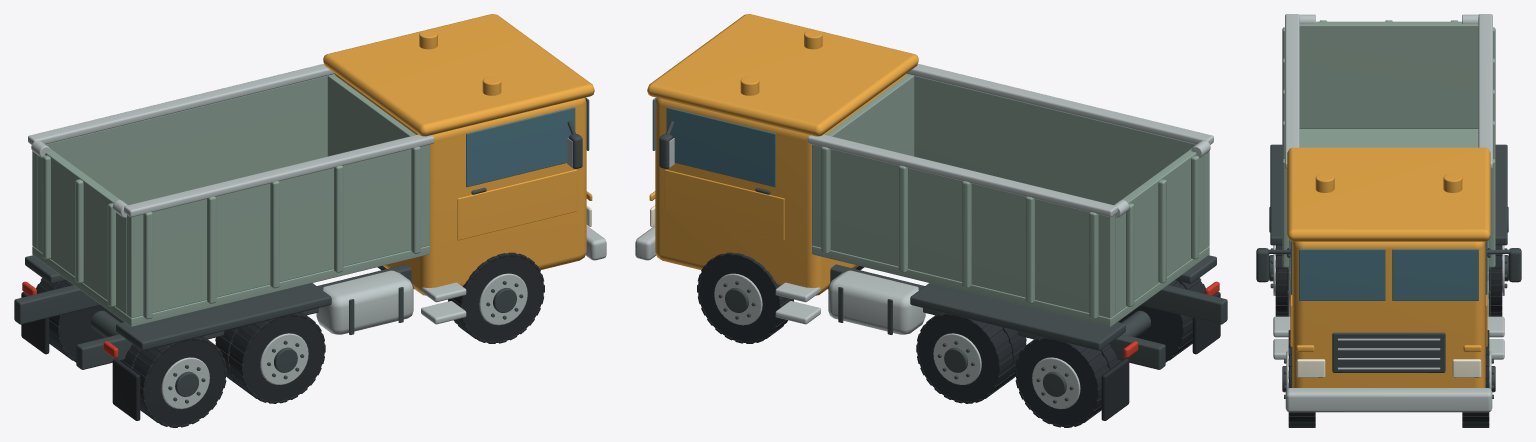
The model's file is dump-truck.glb.
3 views of the same model, side by side, from view 1: azimuth 30°, elevation 25°; view 2: azimuth 150°, elevation 25°; view 3: azimuth 270°, elevation 25° (orthographic).
Parts seen in each view (by area): view 1: DumpTruck_Details, Bed_Side_-1, Bed_Side_1, J_Tipper_Details, Cab, Bed_Tailgate, Bed_Front, Bed_Floor, J_Tailgate_Details; view 2: DumpTruck_Details, Bed_Side_1, Bed_Side_-1, J_Tipper_Details, Cab, Bed_Tailgate, Bed_Front, Bed_Floor, J_Tailgate_Details; view 3: DumpTruck_Details, Bed_Tailgate, Cab, J_Tipper_Details, Bed_Floor.
Boxes of the visible parts, x1,y1,x2,y2 form: DumpTruck_Details: (14, 14, 606, 427); Bed_Side_-1: (126, 144, 429, 318); Bed_Side_1: (32, 75, 328, 248); J_Tipper_Details: (28, 64, 434, 319); Cab: (335, 73, 586, 295); Bed_Tailgate: (37, 148, 126, 314); Bed_Front: (327, 74, 415, 156); Bed_Floor: (32, 245, 429, 326); J_Tailgate_Details: (42, 155, 115, 306); DumpTruck_Details: (635, 14, 1227, 427); Bed_Side_1: (812, 144, 1115, 318); Bed_Side_-1: (913, 75, 1209, 248); J_Tipper_Details: (807, 64, 1213, 319); Cab: (655, 73, 906, 295); Bed_Tailgate: (1115, 148, 1204, 314); Bed_Front: (826, 74, 914, 156); Bed_Floor: (812, 245, 1209, 326); J_Tailgate_Details: (1126, 155, 1199, 306); DumpTruck_Details: (1256, 144, 1521, 427); Bed_Tailgate: (1299, 21, 1478, 128); Cab: (1292, 241, 1485, 387); J_Tipper_Details: (1282, 14, 1495, 267); Bed_Floor: (1289, 129, 1488, 280).
Bounding box in the file's own units: 7.22 × 3.36 × 3.24.
